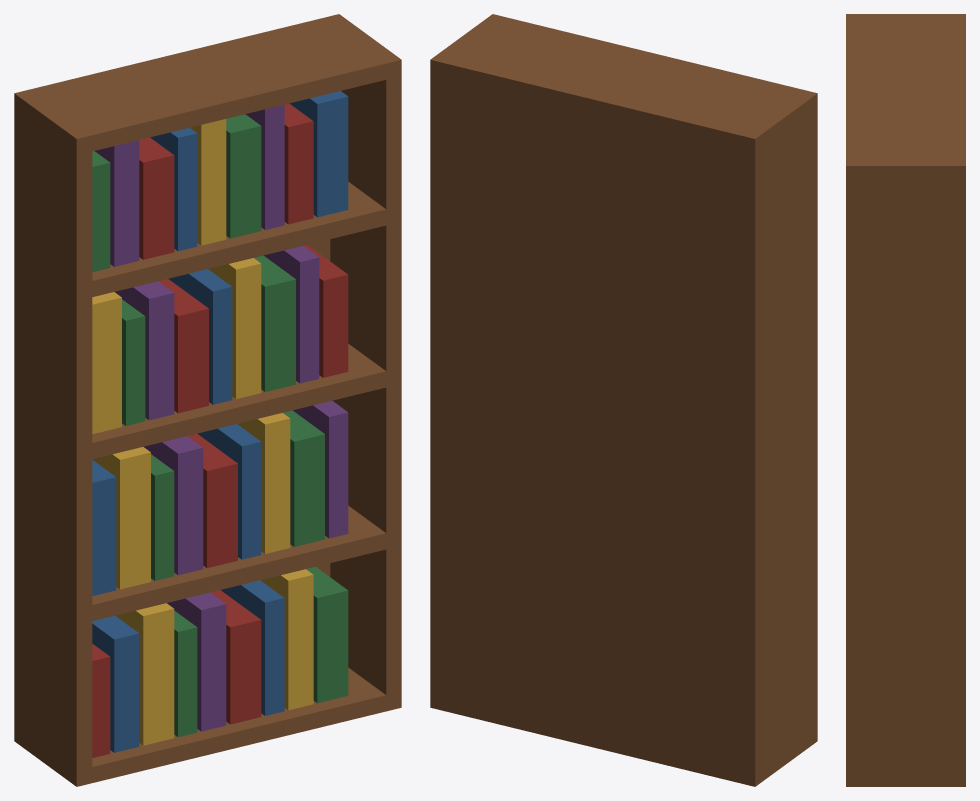
The model's file is mod-estante.gltf.
3 views of the same model, side by side, from view 1: azimuth 30°, elevation 25°; view 2: azimuth 150°, elevation 25°; view 3: azimuth 270°, elevation 25° (orthographic). The views are drawn at different scales.
Visible parts, largest first — view 1: mod-estante; view 2: mod-estante; view 3: mod-estante.
Part boxes in pixels (box(x1,y1,x2,y2)): mod-estante: box(14, 14, 401, 786); mod-estante: box(430, 14, 817, 786); mod-estante: box(846, 14, 965, 786).
Size of the model in its own units: 0.84 by 1.6 by 0.28.
